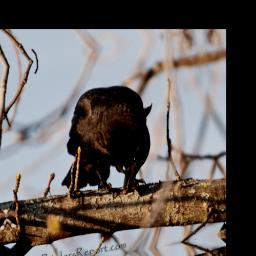Crow: (48, 76, 166, 207)
